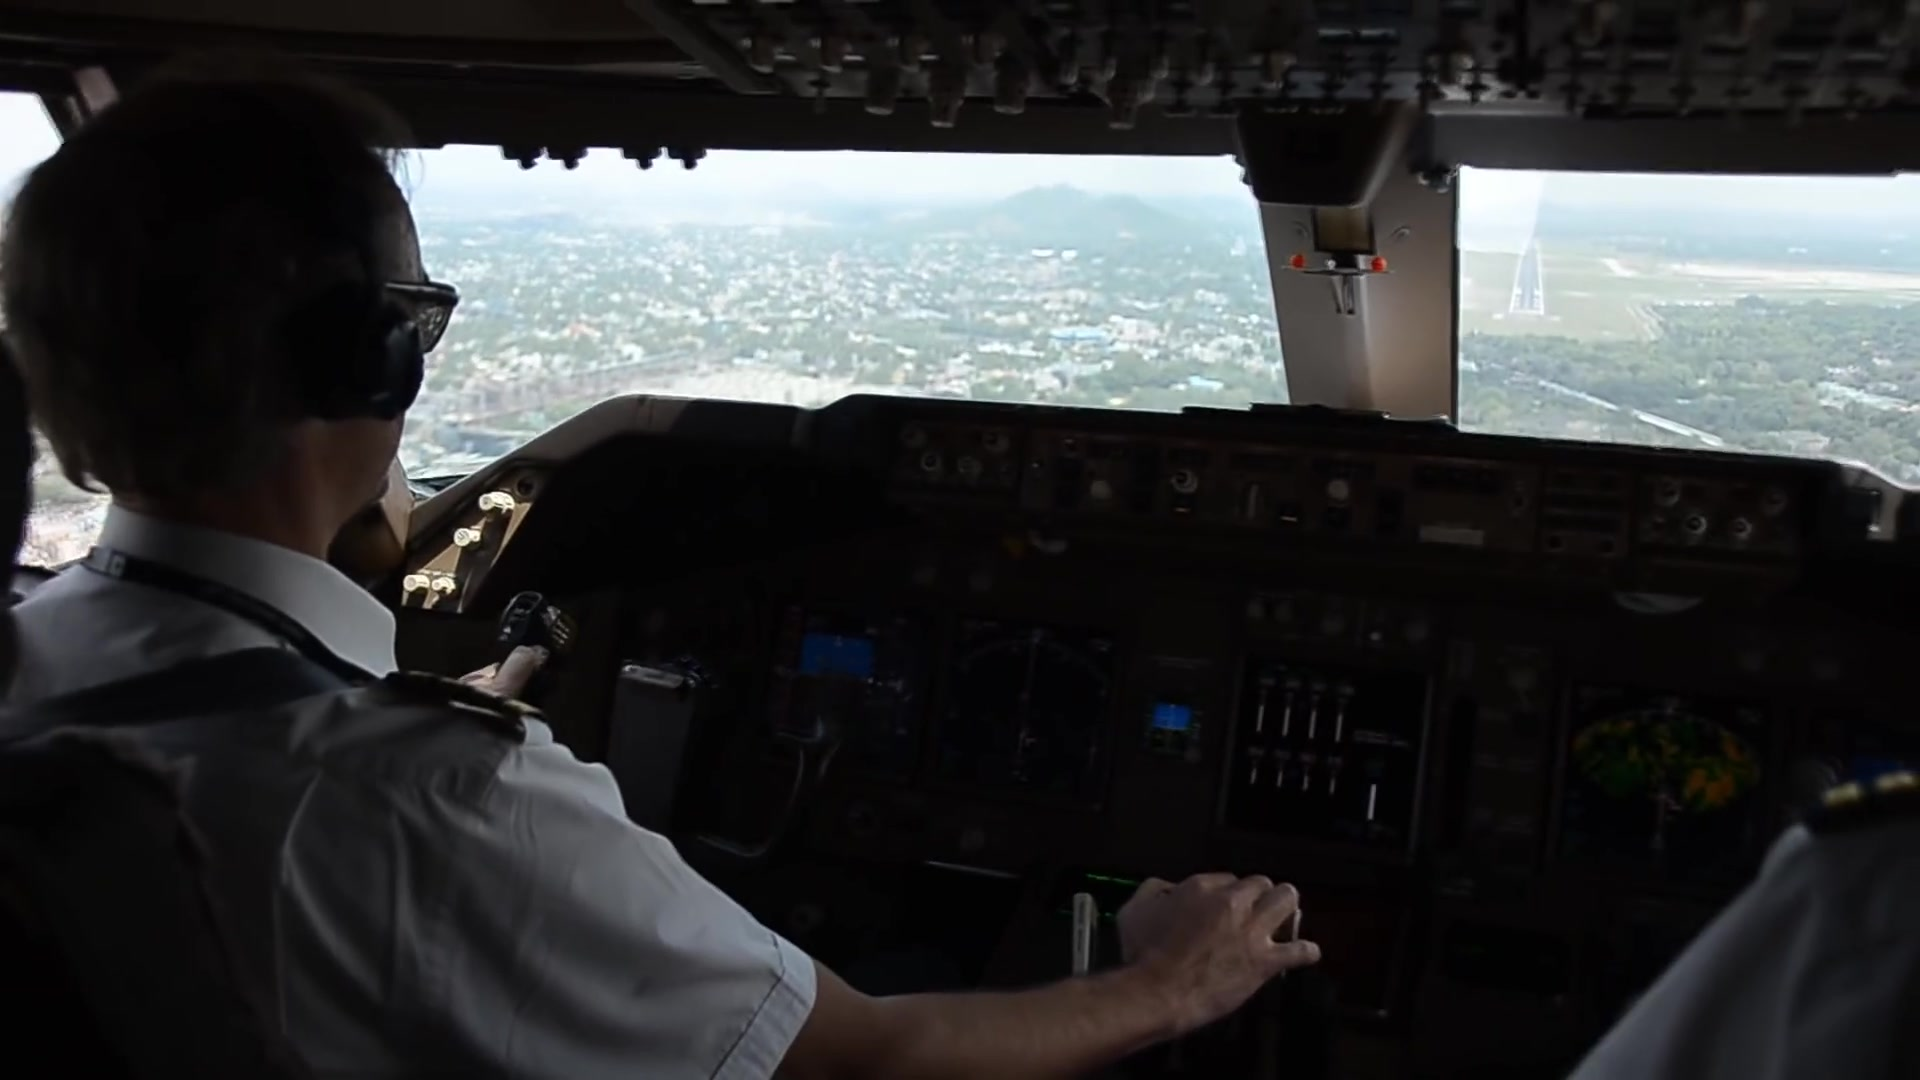runway: (1506, 236, 1545, 316)
